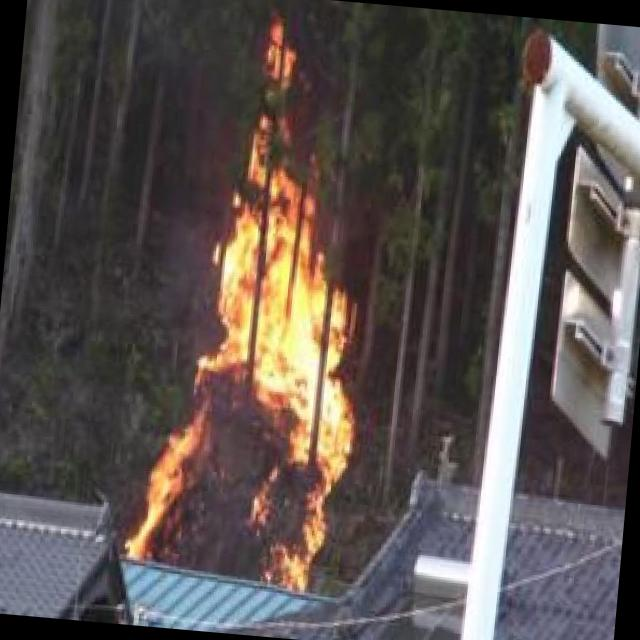Fire: (130, 112, 368, 596)
